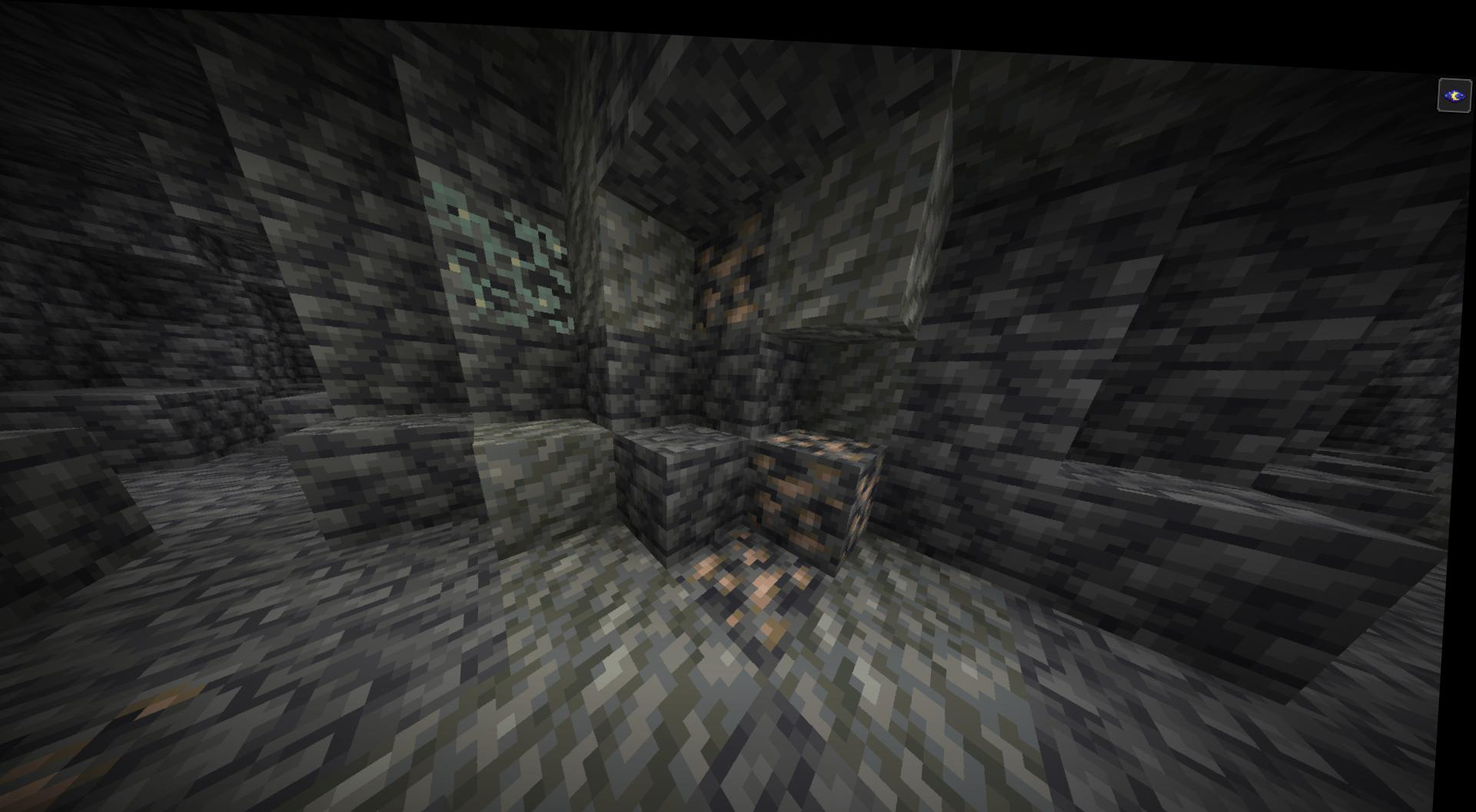iron ore: (0, 661, 213, 812), (760, 418, 892, 534), (698, 525, 816, 643), (692, 213, 778, 327)
